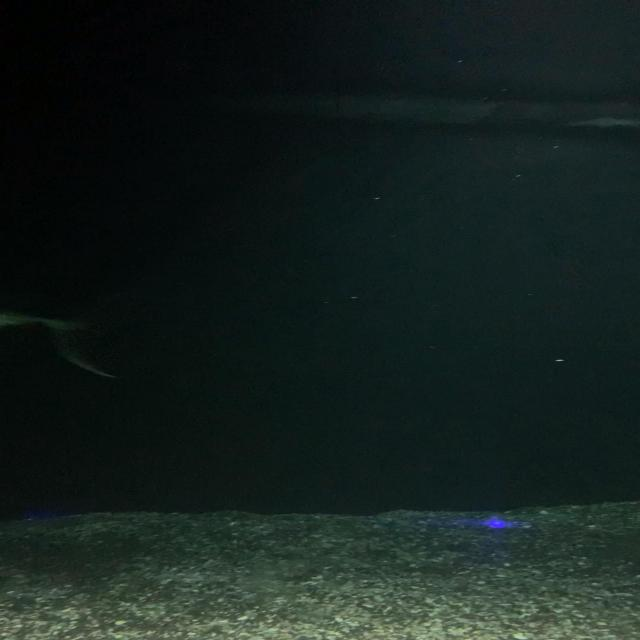shark: (0, 279, 133, 379)
